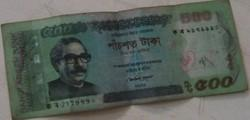500 taka: (8, 4, 237, 116)
